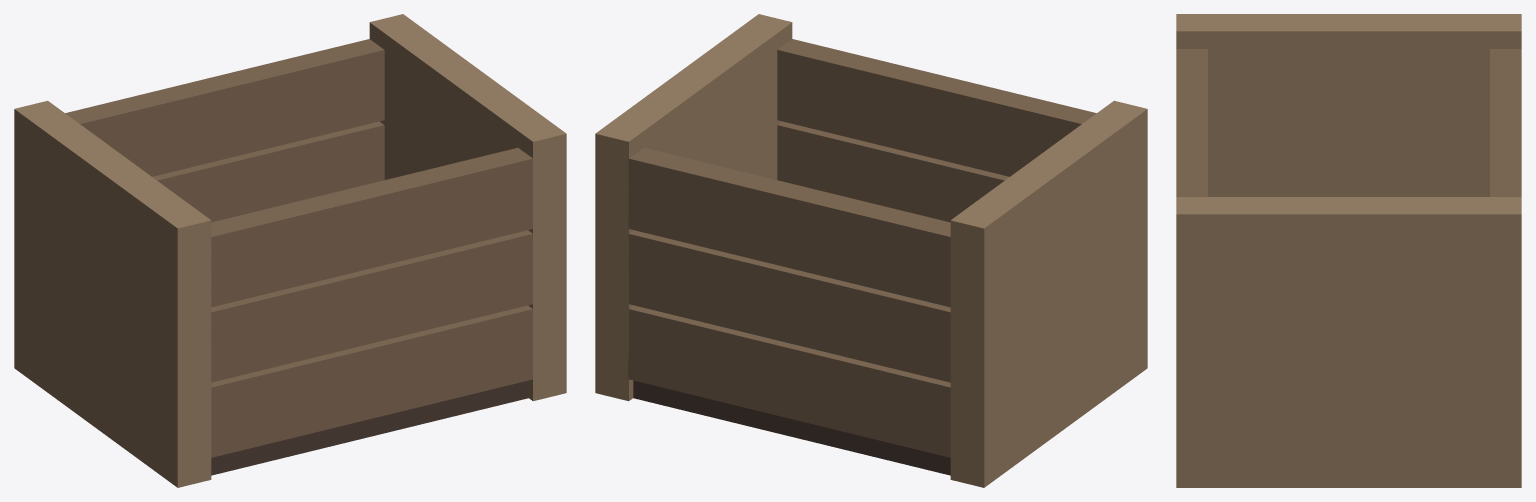
File: Turner_LargePartsCrate.fbx
3 renders of one model, left to right at view 1: azimuth 30°, elevation 25°; view 2: azimuth 150°, elevation 25°; view 3: azimuth 270°, elevation 25°, orthographic. The views are drawn at different scales.
Parts seen in each view (by area): view 1: Turner_LargePartsCrate; view 2: Turner_LargePartsCrate; view 3: Turner_LargePartsCrate.
Boxes of the visible parts, x1,y1,x2,y2 form: Turner_LargePartsCrate: (14, 14, 566, 487); Turner_LargePartsCrate: (595, 14, 1147, 487); Turner_LargePartsCrate: (1176, 14, 1521, 487).
Bounding box in the file's own units: 0.659 × 0.42 × 0.48.
